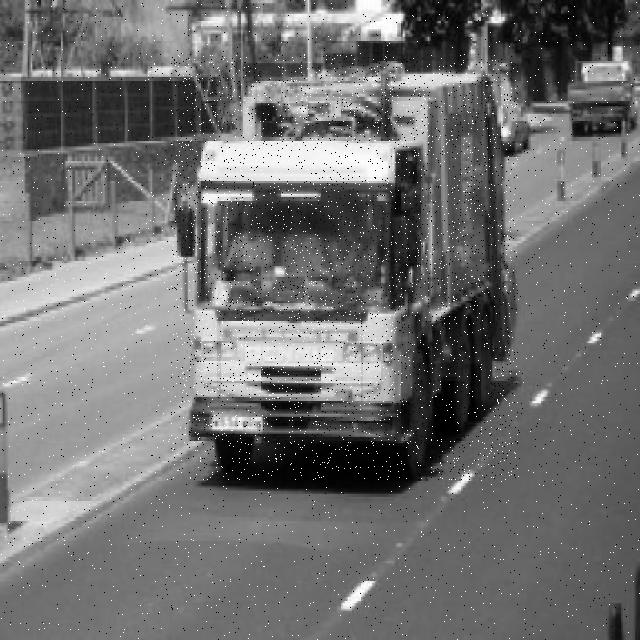Garbage Truck: (171, 54, 518, 480)
